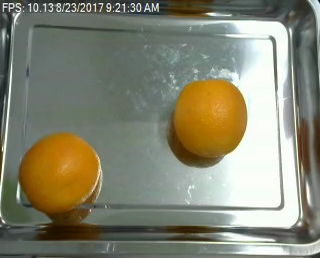Orange: (18, 132, 101, 213), (171, 77, 246, 158)
